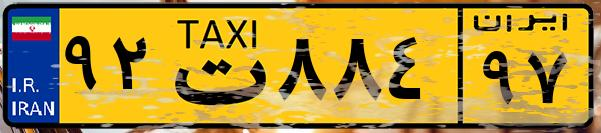2: (110, 28, 158, 98)
4: (385, 28, 445, 110)
7: (525, 38, 570, 115)
8: (270, 28, 330, 110), (330, 28, 385, 110)
9: (57, 26, 110, 100), (475, 38, 525, 113)
ت: (158, 12, 270, 120)
